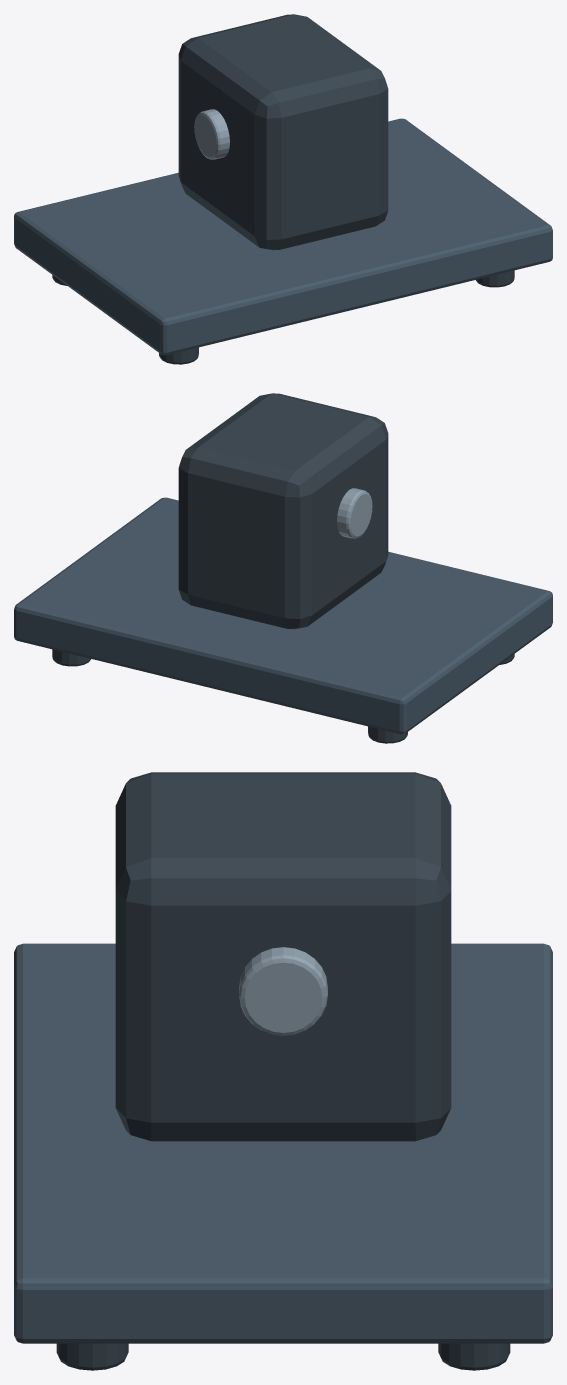
The model's file is bearing-assembly-lod0.glb.
The picture shows the model from 3 angles, top to bottom: view 1: azimuth 30°, elevation 25°; view 2: azimuth 150°, elevation 25°; view 3: azimuth 270°, elevation 25°; orthographic projection. The views are drawn at different scales.
Parts seen in each view (by area): view 1: drive_base, bearing_drive_housing, bearing_drive_shaft, base_mount_-1.4500000000000002_-0.85, base_mount_1.4500000000000002_-0.85; view 2: drive_base, bearing_drive_housing, bearing_drive_shaft, base_mount_-1.4500000000000002_0.85, base_mount_1.4500000000000002_0.85; view 3: drive_base, bearing_drive_housing, bearing_drive_shaft, base_mount_1.4500000000000002_0.85, base_mount_1.4500000000000002_-0.85.
Part boxes in pixels (left/top/right/bottom): drive_base: left=14, top=118, right=552, bottom=355; bearing_drive_housing: left=178, top=14, right=388, bottom=250; bearing_drive_shaft: left=194, top=109, right=229, bottom=159; base_mount_-1.4500000000000002_-0.85: left=159, top=347, right=198, bottom=364; base_mount_1.4500000000000002_-0.85: left=476, top=270, right=514, bottom=287; drive_base: left=14, top=497, right=552, bottom=734; bearing_drive_housing: left=178, top=393, right=388, bottom=629; bearing_drive_shaft: left=337, top=488, right=372, bottom=538; base_mount_-1.4500000000000002_0.85: left=368, top=726, right=407, bottom=743; base_mount_1.4500000000000002_0.85: left=52, top=649, right=90, bottom=666; drive_base: left=14, top=943, right=552, bottom=1343; bearing_drive_housing: left=115, top=772, right=451, bottom=1141; bearing_drive_shaft: left=239, top=947, right=327, bottom=1035; base_mount_1.4500000000000002_0.85: left=438, top=1343, right=510, bottom=1370; base_mount_1.4500000000000002_-0.85: left=56, top=1343, right=128, bottom=1370.
Size of the model in its own units: 3.6 by 1.99 by 2.4.
